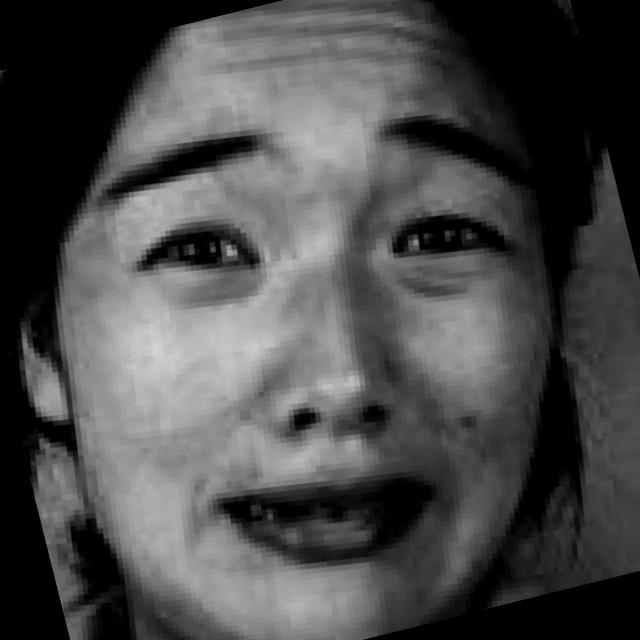fear: (0, 5, 637, 640)
